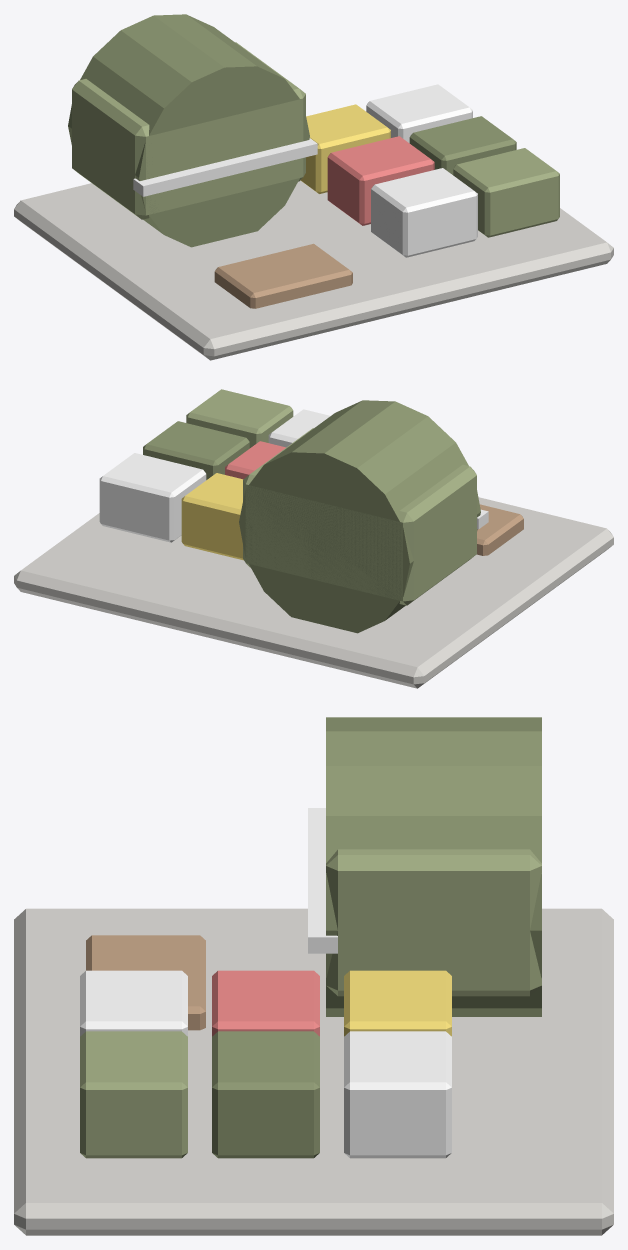
Rendered from depot.glb.
3 renders of one model, top to bottom at view 1: azimuth 30°, elevation 25°; view 2: azimuth 150°, elevation 25°; view 3: azimuth 270°, elevation 25°, orthographic. The views are drawn at different scales.
Visible parts, largest first — view 1: main; view 2: main; view 3: main.
Part boxes in pixels (left/top/right/bottom): main: left=14, top=14, right=613, bottom=360; main: left=14, top=389, right=613, bottom=688; main: left=14, top=717, right=613, bottom=1235.
Size of the model in its own units: 1.2 by 0.54 by 1.
